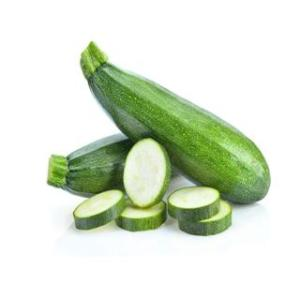zucchini: (61, 38, 287, 204), (42, 113, 174, 208)
